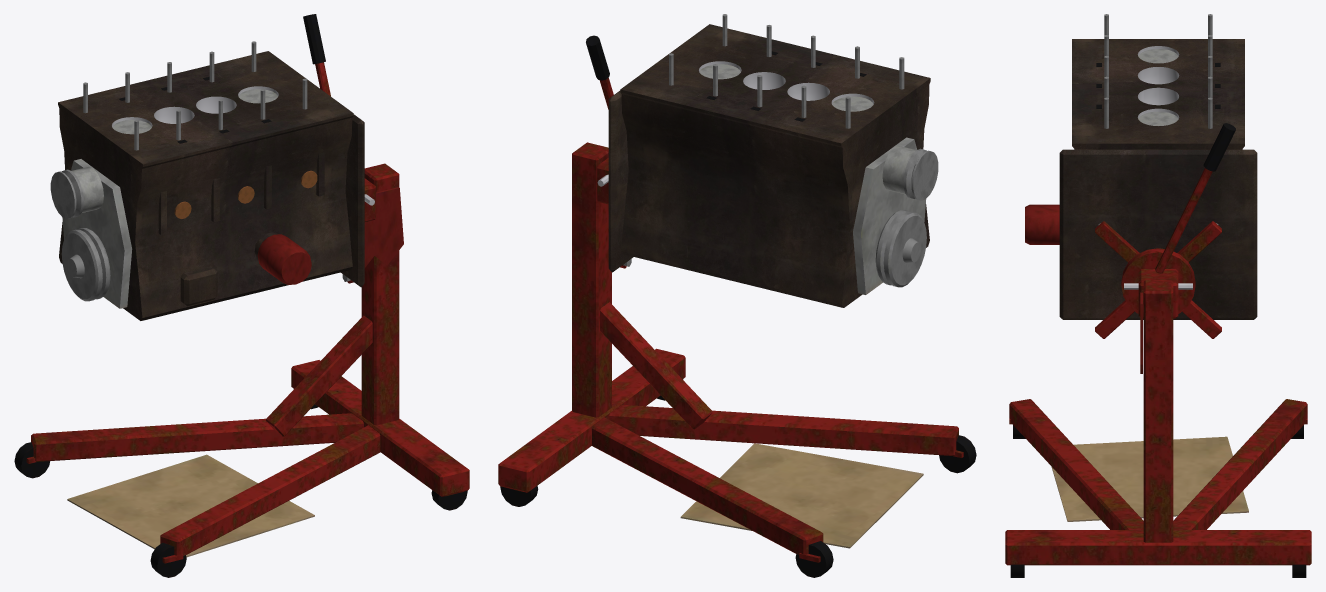
File: engine-stand.glb
The picture shows the model from 3 angles, left to right: view 1: azimuth 30°, elevation 25°; view 2: azimuth 150°, elevation 25°; view 3: azimuth 270°, elevation 25°; orthographic projection. The views are drawn at different scales.
Visible parts, largest first — view 1: engine_stand; view 2: engine_stand; view 3: engine_stand.
Boxes of the visible parts, x1,y1,x2,y2 form: engine_stand: (14, 14, 469, 577); engine_stand: (498, 14, 976, 577); engine_stand: (1005, 14, 1311, 577).
Size of the model in its own units: 0.79 by 0.9697 by 0.62.
3 materials, 3 textured.
